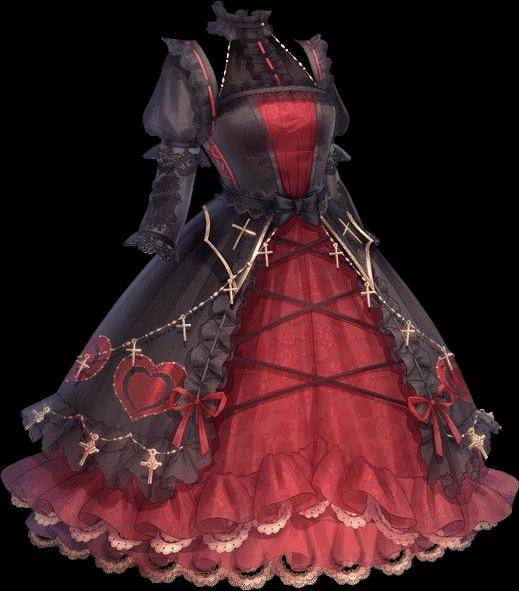Bodice: (206, 1, 334, 215)
Hemline: (20, 215, 284, 507), (319, 216, 503, 496), (4, 471, 518, 546), (24, 519, 482, 590)
Neckline: (247, 93, 289, 211), (299, 91, 321, 216), (217, 85, 331, 105), (206, 27, 273, 43), (214, 1, 271, 18)
Skirt: (1, 196, 518, 589)
Sleeve: (123, 37, 218, 262)
Sleeveline: (193, 39, 221, 107), (139, 223, 182, 244), (160, 138, 210, 149)
Waistline: (55, 391, 206, 460), (219, 195, 335, 219), (143, 151, 214, 168)
